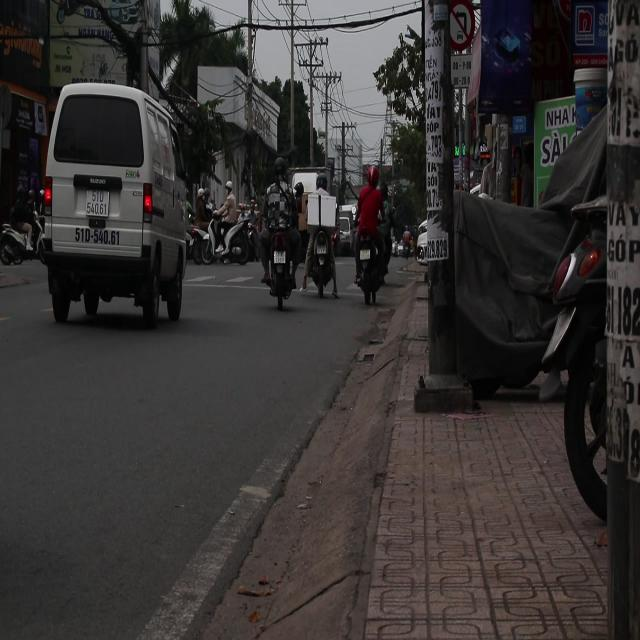car: (40, 80, 195, 327)
motorbike: (258, 209, 301, 311), (350, 218, 392, 315), (304, 216, 342, 310), (208, 200, 254, 273), (0, 197, 43, 264), (190, 222, 215, 266)
